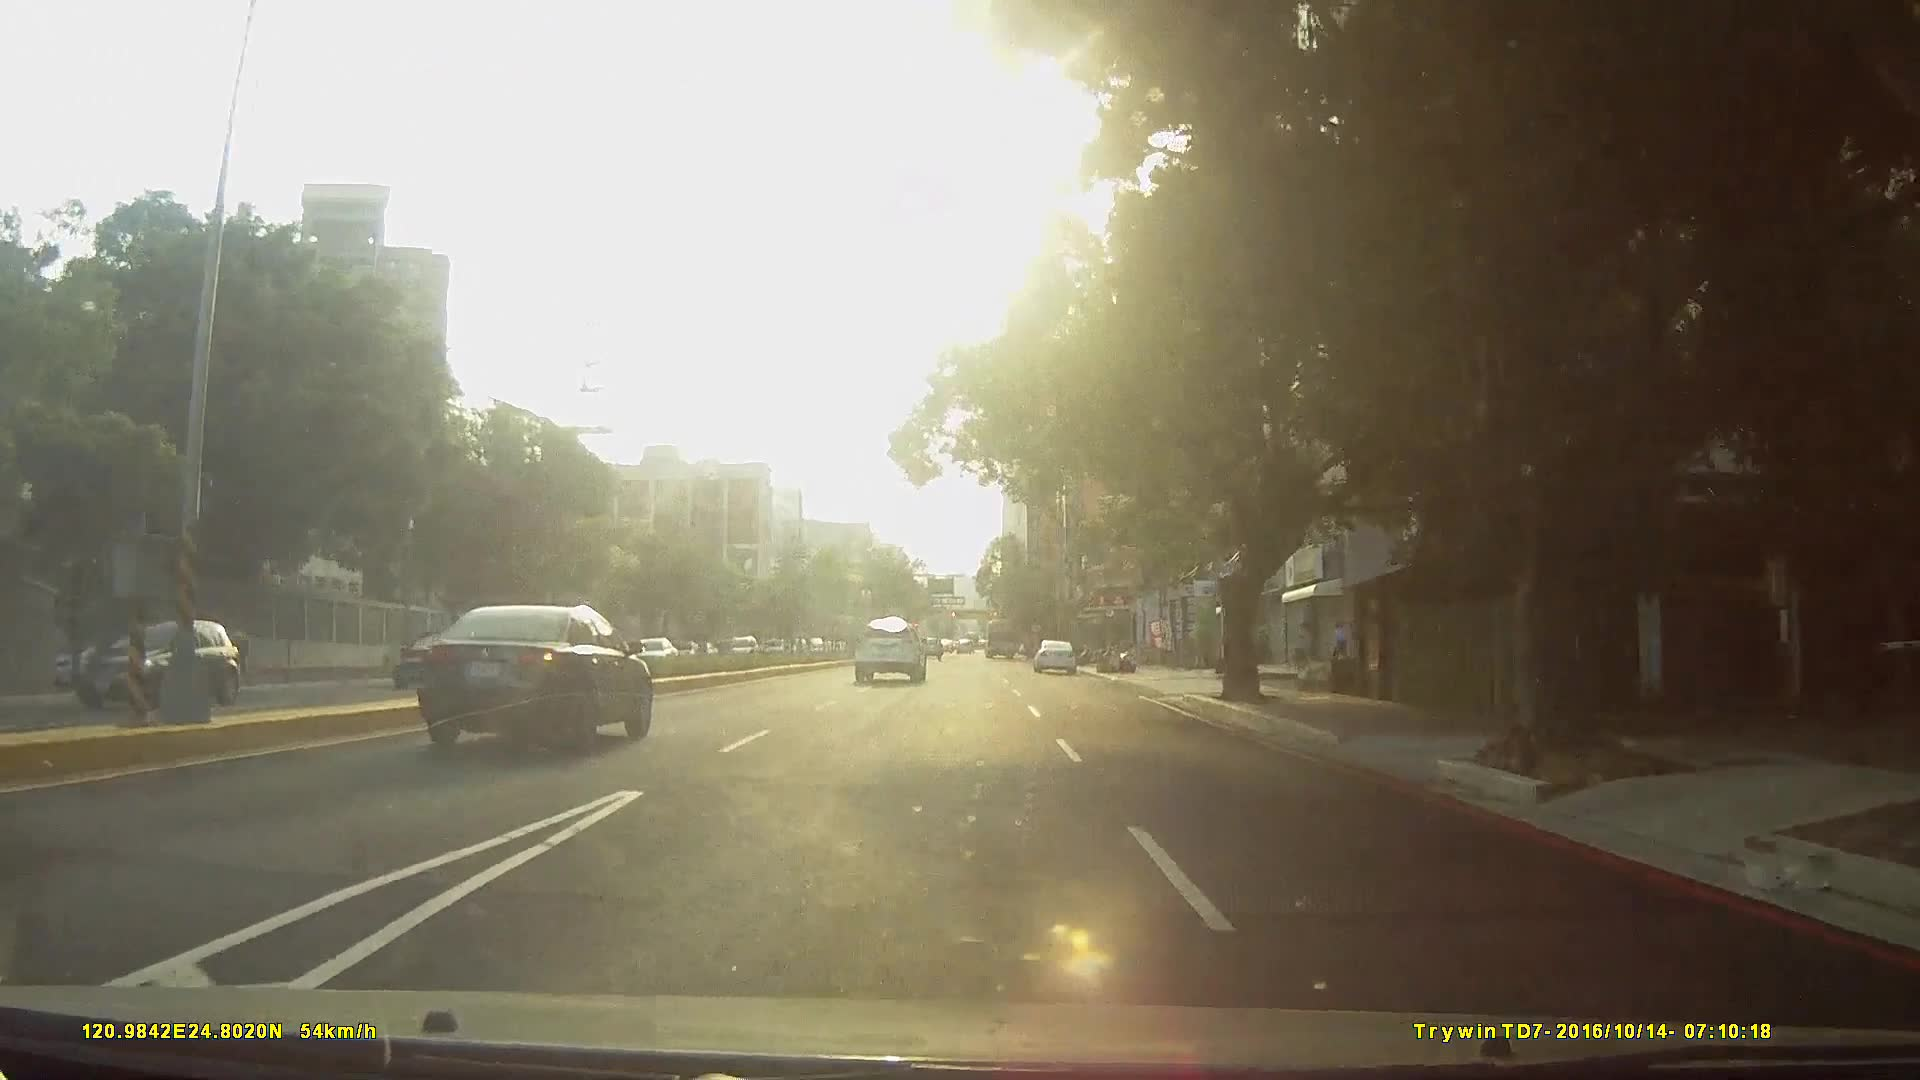pedestrian: (1334, 617, 1354, 662)
vehicle: (419, 601, 656, 757), (64, 610, 252, 723), (853, 611, 929, 682), (1033, 634, 1079, 674), (982, 611, 1020, 655)
